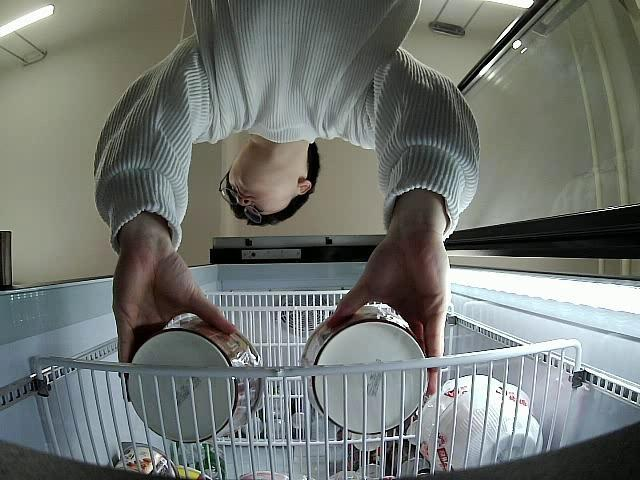05_nuguri_L: (127, 311, 265, 447), (300, 307, 429, 436)
